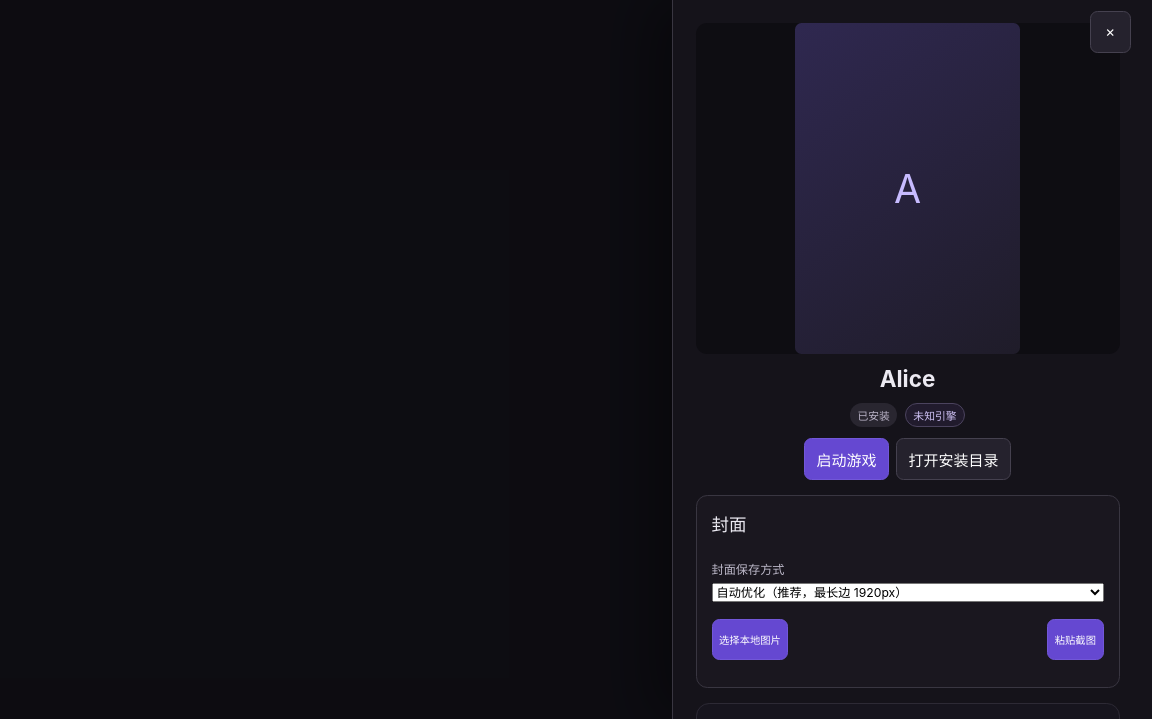
Scenario: GameDetailDrawer › restores the launch button when the bridge promise rejects
Click the button with test id "quick-launch" at (846,459), box [804,438,889,480]
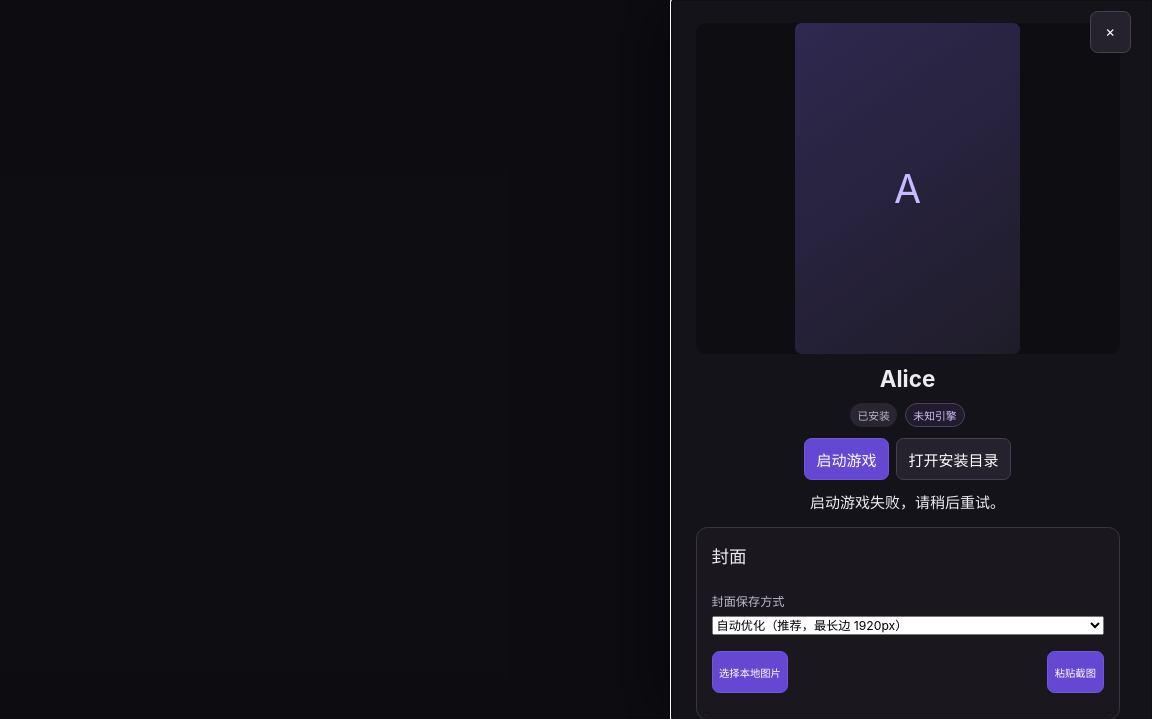
Now the text with test id "quick-message" reads "启动游戏失败，请稍后重试。", box [810,493,1005,512]
